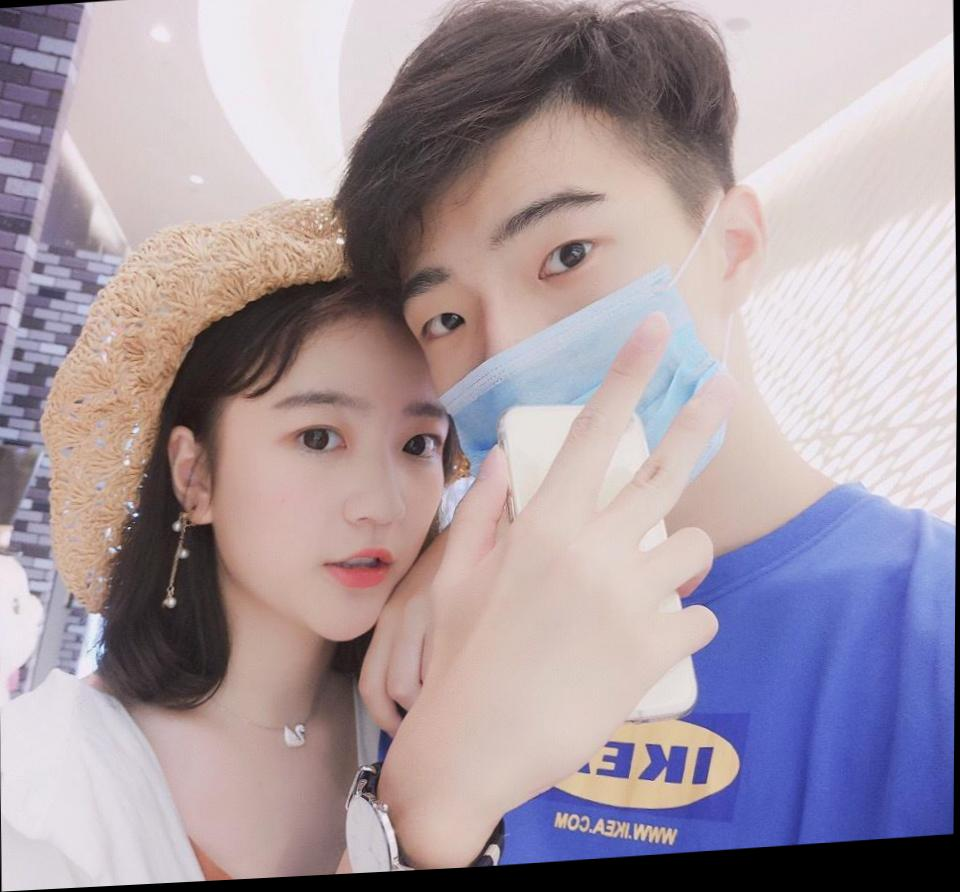NONE: (211, 377, 449, 659)
WRONG: (408, 175, 721, 548)
